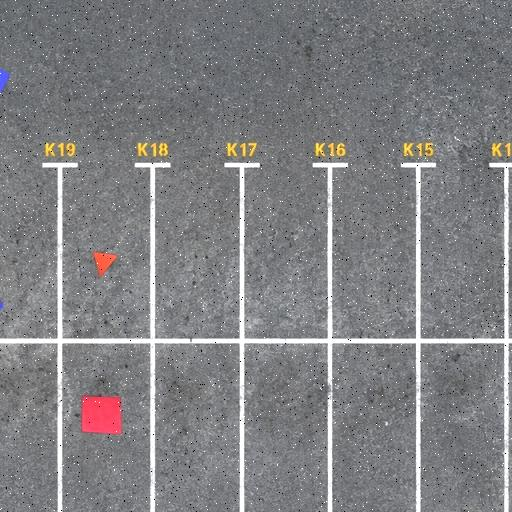RED_SQUARE: (81, 395, 122, 435)
